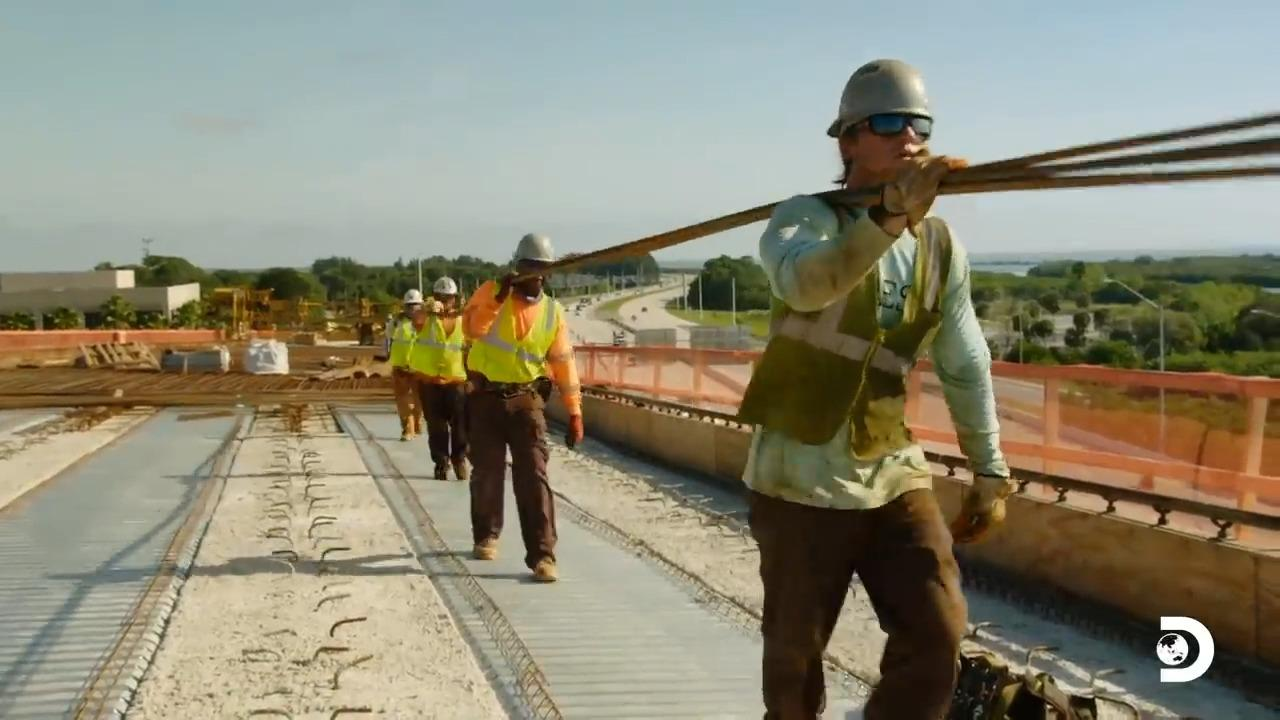Gloves: (877, 151, 953, 219), (949, 473, 1013, 548), (557, 412, 587, 449), (497, 266, 528, 294)
Helmet: (826, 58, 932, 138), (512, 232, 555, 264), (432, 276, 457, 295), (402, 288, 423, 304)
Person: (736, 58, 1012, 719), (460, 232, 584, 582), (413, 269, 475, 480), (387, 289, 428, 442)
Safety Vest: (772, 263, 923, 448), (478, 296, 561, 383), (428, 319, 463, 386), (395, 329, 419, 372)
